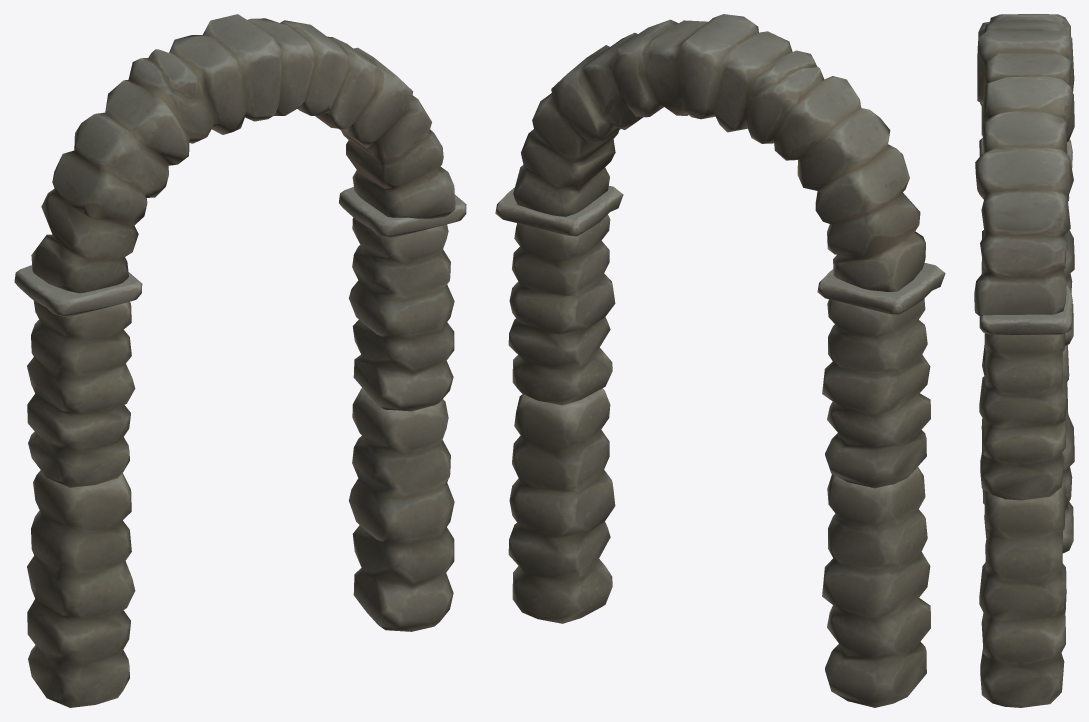
The model's file is SM_FW01_Ruins_Decor_Arch_02.fbx.
3 views of the same model, side by side, from view 1: azimuth 30°, elevation 25°; view 2: azimuth 150°, elevation 25°; view 3: azimuth 270°, elevation 25° (orthographic). The views are drawn at different scales.
Parts seen in each view (by area): view 1: SM_FW01_Ruins_Decor_Arch_02_LOD0; view 2: SM_FW01_Ruins_Decor_Arch_02_LOD0; view 3: SM_FW01_Ruins_Decor_Arch_02_LOD0.
Part boxes in pixels (x1=…): SM_FW01_Ruins_Decor_Arch_02_LOD0: x1=14, y1=14, x2=466, y2=707; SM_FW01_Ruins_Decor_Arch_02_LOD0: x1=495, y1=14, x2=945, y2=707; SM_FW01_Ruins_Decor_Arch_02_LOD0: x1=974, y1=14, x2=1074, y2=707.
Size of what is drawn, in the model's own units: 4.03 by 5.83 by 0.9026.
